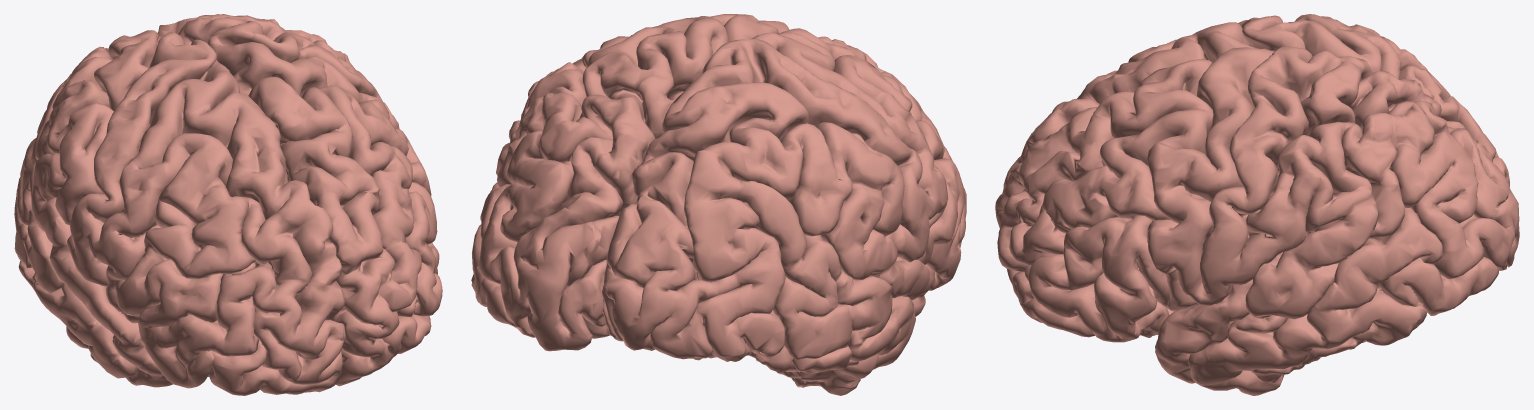
The model's file is brain.glb.
The picture shows the model from 3 angles, left to right: view 1: azimuth 30°, elevation 25°; view 2: azimuth 150°, elevation 25°; view 3: azimuth 270°, elevation 25°; orthographic projection. The views are drawn at different scales.
Parts seen in each view (by area): view 1: Brainder cortex — Anderson Winkler; view 2: Brainder cortex — Anderson Winkler; view 3: Brainder cortex — Anderson Winkler.
Part boxes in pixels (x1,y1,x2,y2): Brainder cortex — Anderson Winkler: [14, 14, 442, 395]; Brainder cortex — Anderson Winkler: [471, 14, 966, 395]; Brainder cortex — Anderson Winkler: [995, 14, 1519, 395].
Size of the model in its own units: 1.38 by 1.18 by 1.81.
